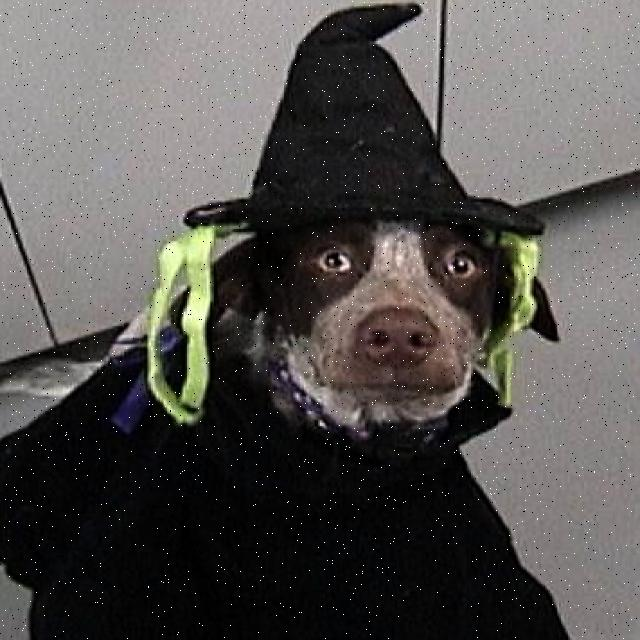Dog: (189, 169, 553, 424)
